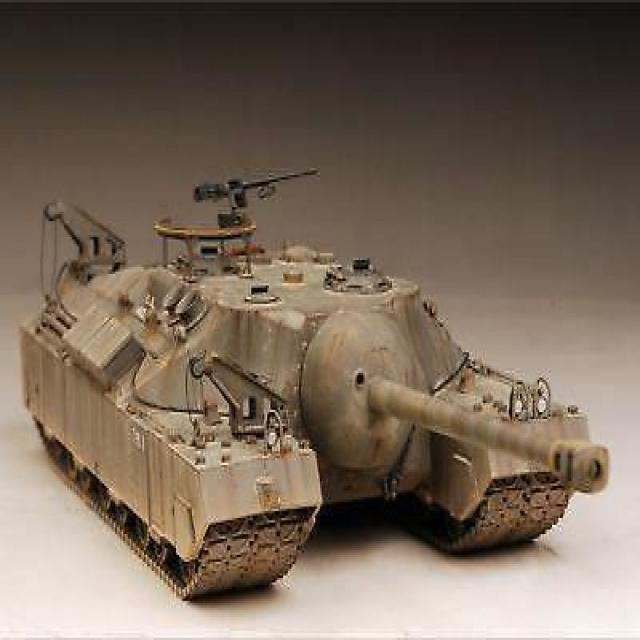MIL_MBT: (17, 139, 609, 609)
